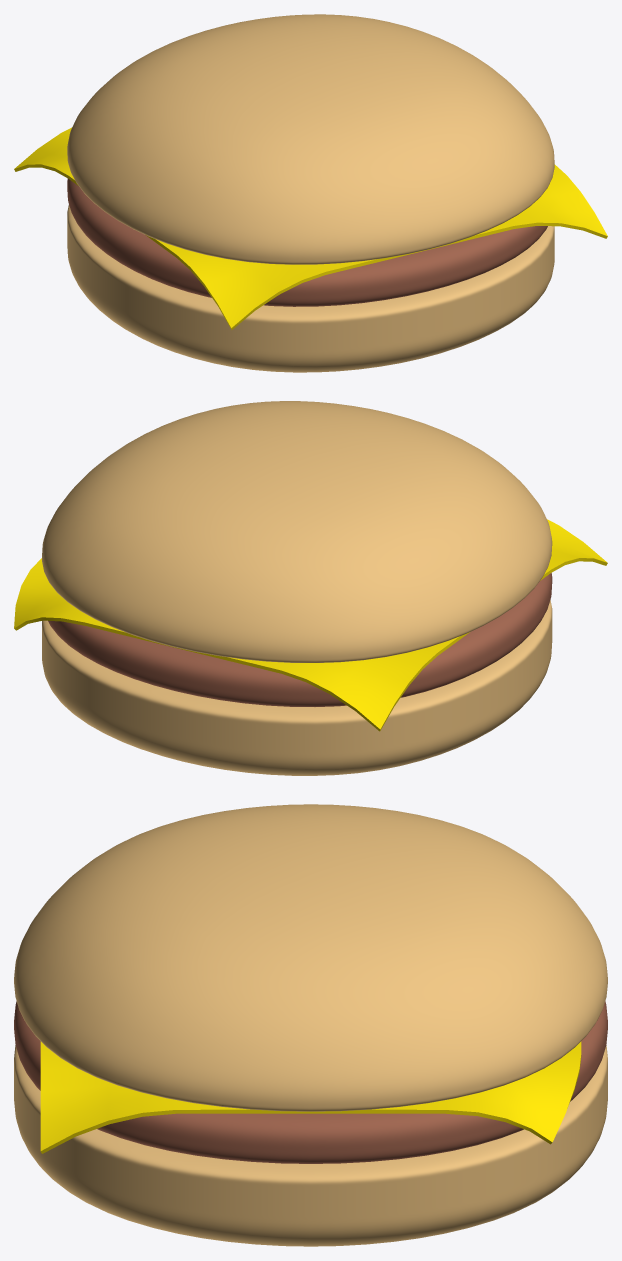
Rendered from hamburger.glb.
3 views of the same model, one above another, from view 1: azimuth 30°, elevation 25°; view 2: azimuth 150°, elevation 25°; view 3: azimuth 270°, elevation 25° (orthographic). The views are drawn at different scales.
Visible parts, largest first — view 1: top-bun, bottom-bun, meat, cheese; view 2: top-bun, bottom-bun, meat, cheese; view 3: top-bun, bottom-bun, meat, cheese.
Part boxes in pixels (left/top/right/bottom): top-bun: left=67, top=14, right=554, bottom=264; bottom-bun: left=67, top=205, right=554, bottom=372; meat: left=67, top=178, right=547, bottom=306; cheese: left=14, top=127, right=607, bottom=329; top-bun: left=42, top=401, right=552, bottom=662; bottom-bun: left=42, top=600, right=552, bottom=775; meat: left=48, top=573, right=552, bottom=706; cheese: left=14, top=519, right=607, bottom=731; top-bun: left=14, top=804, right=607, bottom=1111; bottom-bun: left=14, top=1045, right=607, bottom=1246; meat: left=14, top=1001, right=607, bottom=1163; cheese: left=40, top=1041, right=581, bottom=1153.
Size of the model in its own units: 11 by 6.06 by 11.
